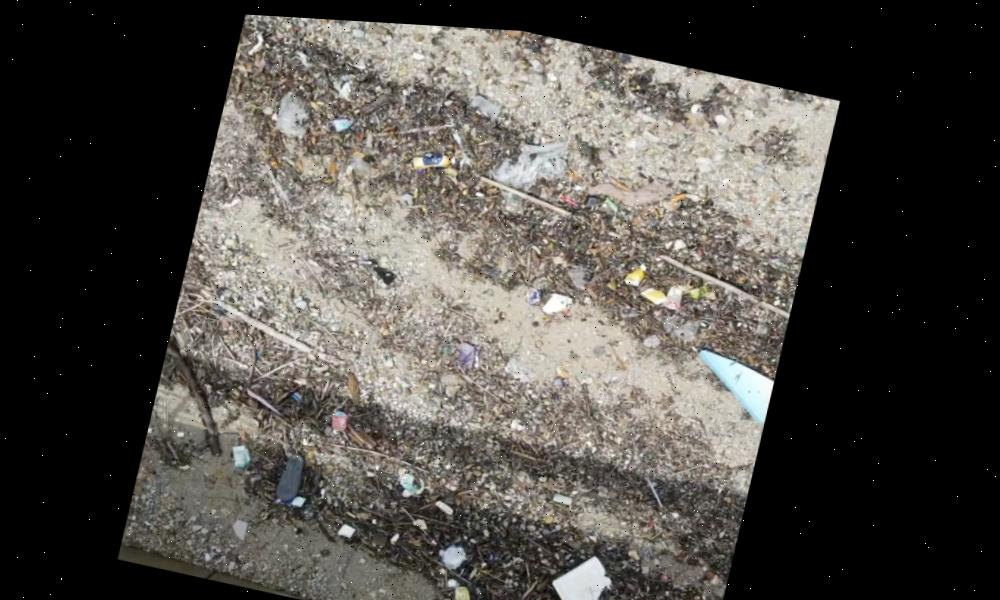plastic bag: (484, 112, 587, 221), (259, 77, 324, 140)
plastic bottle: (408, 141, 463, 172)
